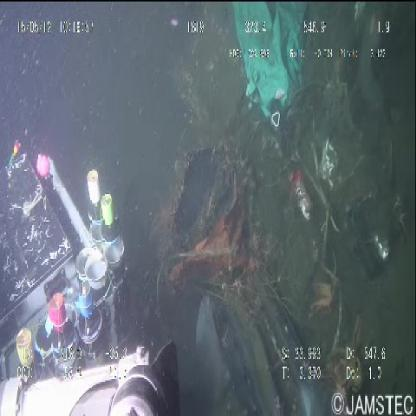Rác: (228, 0, 313, 136), (178, 292, 235, 412)
